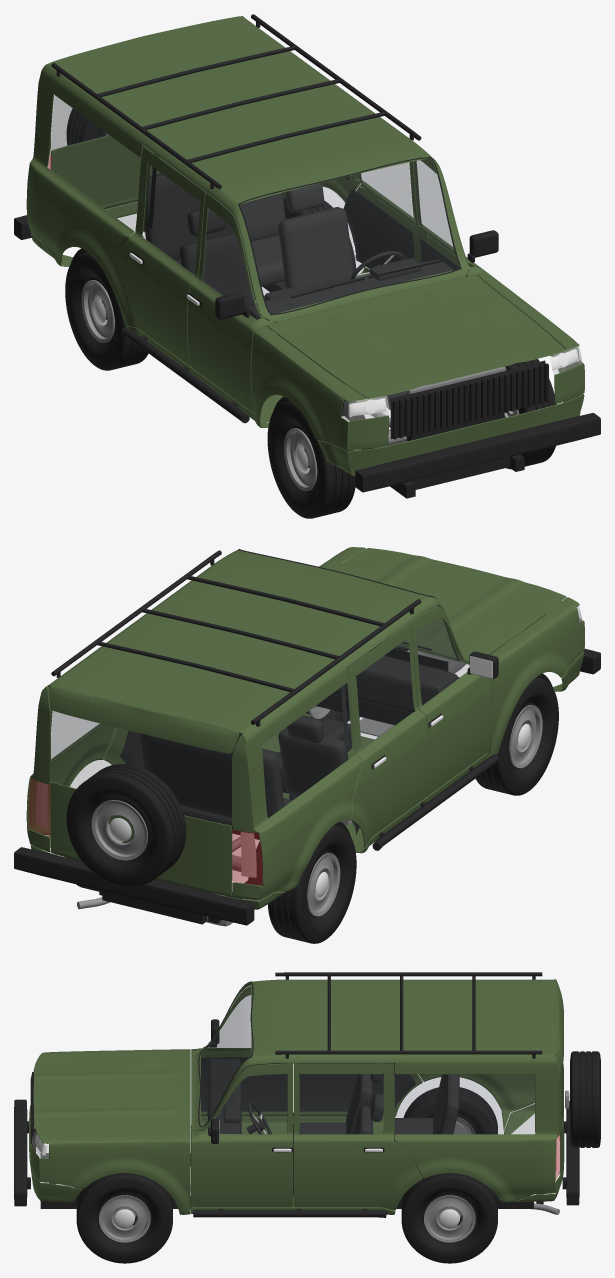
File: suv_4x4.glb
The picture shows the model from 3 angles, top to bottom: view 1: azimuth 30°, elevation 25°; view 2: azimuth 150°, elevation 25°; view 3: azimuth 270°, elevation 25°; orthographic projection. The views are drawn at different scales.
Visible parts, largest first — view 1: body_shell, glass_windshield, hood, bumper_front, door_RR, fender_FR, door_FR, grille, glass_quarter_R, seat_rear, seat_FL, tyre_FR (+23 smaller); view 2: body_shell, hood, spare_wheel, tailgate, glass_rear, door_RR, door_FR, glass_quarter_R, seat_rear, fender_FR, bumper_rear, tyre_RR (+19 smaller); view 3: body_shell, hood, door_RL, door_FL, glass_quarter_L, fender_FL, tyre_FL, tyre_RL, glass_door_RL, glass_door_FL, glass_windshield, spare_wheel (+18 smaller).
Part boxes in pixels (<box>): body_shell: <box>26,14,468,423</box>; glass_windshield: <box>240,159,459,313</box>; hood: <box>267,275,566,398</box>; bumper_front: <box>317,393,600,492</box>; door_RR: <box>104,146,205,366</box>; fender_FR: <box>251,326,388,450</box>; door_FR: <box>187,193,276,412</box>; grille: <box>389,360,548,439</box>; glass_quarter_R: <box>49,96,140,230</box>; seat_rear: <box>145,169,285,286</box>; seat_FL: <box>278,183,353,292</box>; tyre_FR: <box>267,400,355,518</box>; body_shell: <box>26,549,498,900</box>; hood: <box>332,548,566,660</box>; spare_wheel: <box>66,764,186,886</box>; tailgate: <box>49,687,239,896</box>; glass_rear: <box>51,710,232,825</box>; door_RR: <box>347,623,428,847</box>; door_FR: <box>411,606,492,796</box>; glass_quarter_R: <box>262,683,353,817</box>; seat_rear: <box>140,733,292,839</box>; fender_FR: <box>480,597,584,757</box>; bumper_rear: <box>14,836,285,925</box>; tyre_RR: <box>268,825,356,943</box>; body_shell: <box>191,972,561,1217</box>; hood: <box>33,1052,190,1136</box>; door_RL: <box>293,1063,422,1210</box>; door_FL: <box>191,1063,292,1207</box>; glass_quarter_L: <box>395,1074,534,1133</box>; fender_FL: <box>30,1134,190,1214</box>; tyre_FL: <box>76,1173,172,1263</box>; tyre_RL: <box>401,1173,497,1263</box>; glass_door_RL: <box>299,1074,383,1133</box>; glass_door_FL: <box>201,1074,286,1133</box>; glass_windshield: <box>201,984,250,1125</box>; spare_wheel: <box>565,1051,600,1147</box>.
Size of the model in its own units: 2.16 by 1.91 by 4.88.
